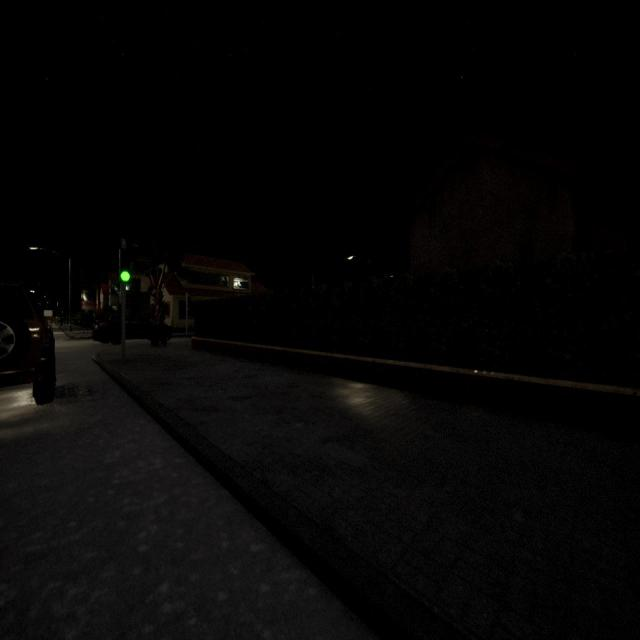Vehicle: (0, 282, 56, 404), (88, 311, 172, 347)
traffic_light: (120, 249, 130, 283)
